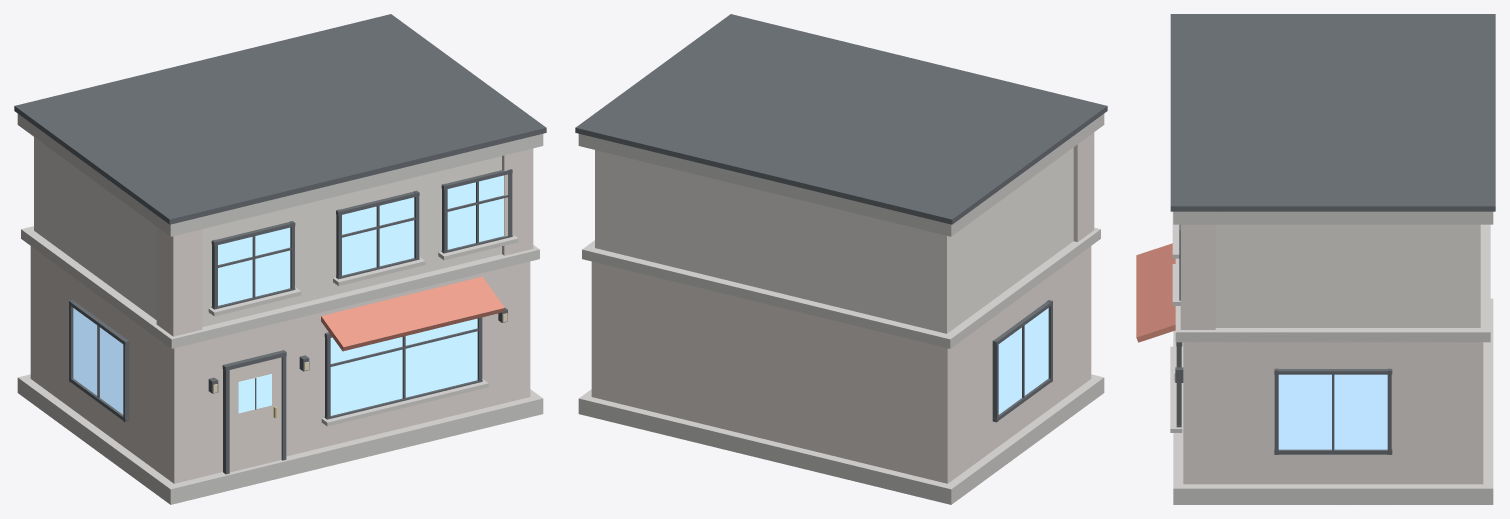
Rendered from Building_East_Cafe.fbx.
The picture shows the model from 3 angles, left to right: view 1: azimuth 30°, elevation 25°; view 2: azimuth 150°, elevation 25°; view 3: azimuth 270°, elevation 25°; orthographic projection. The views are drawn at different scales.
Parts seen in each view (by area): view 1: Building_East_Cafe; view 2: Building_East_Cafe; view 3: Building_East_Cafe.
Part boxes in pixels (x1,y1,x2,y2): Building_East_Cafe: (14, 14, 546, 504); Building_East_Cafe: (575, 14, 1107, 504); Building_East_Cafe: (1136, 14, 1495, 504).
Size of the model in its own units: 910 by 662 by 719.
